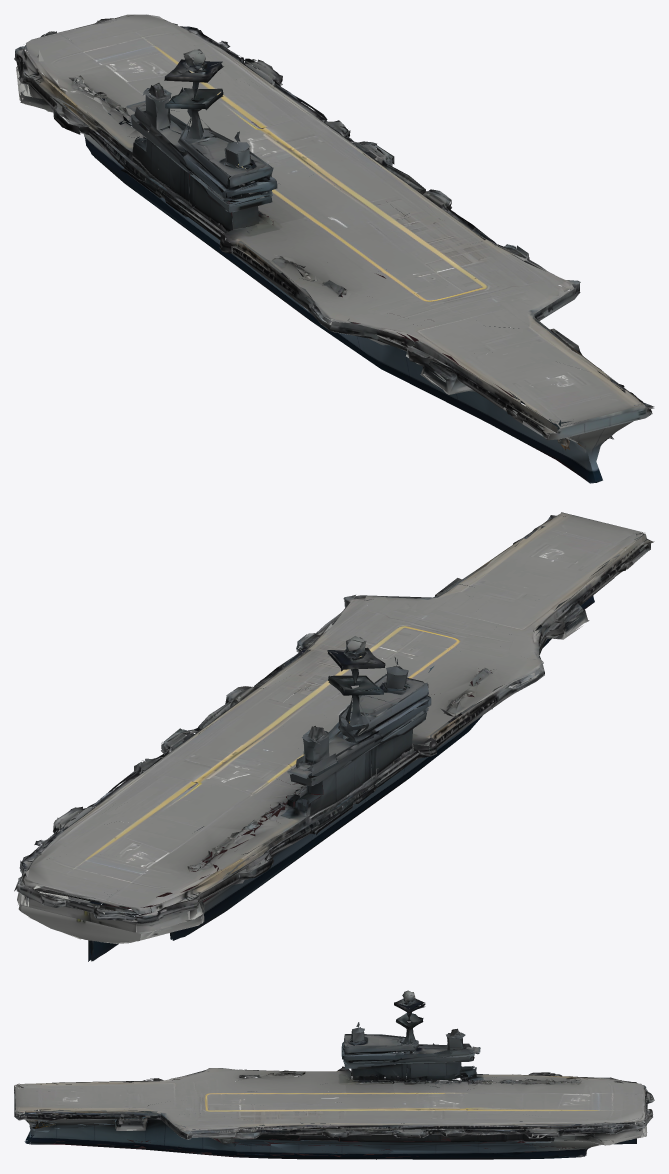
Rendered from aircraft-carrier.glb.
3 views of the same model, one above another, from view 1: azimuth 30°, elevation 25°; view 2: azimuth 150°, elevation 25°; view 3: azimuth 270°, elevation 25° (orthographic). The views are drawn at different scales.
Parts seen in each view (by area): view 1: node_0; view 2: node_0; view 3: node_0.
Boxes of the visible parts, box(x1,y1,x2,y2) form: node_0: box(14, 14, 654, 483); node_0: box(14, 512, 654, 961); node_0: box(14, 990, 654, 1159).
Bounding box in the file's own units: 70.8 × 63.92 × 288.
Materials: 1 (1 with a texture image).
